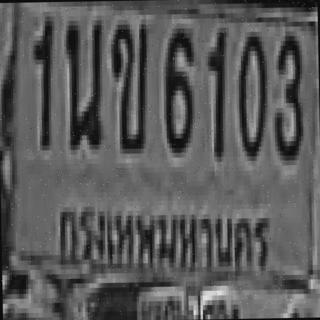A02: (110, 19, 148, 149)
A25: (64, 15, 102, 145)
N00: (235, 27, 266, 156)
N01: (30, 14, 54, 143), (205, 25, 226, 154)
N03: (270, 31, 301, 156)
N06: (162, 23, 193, 148)
P04: (53, 185, 276, 283)
